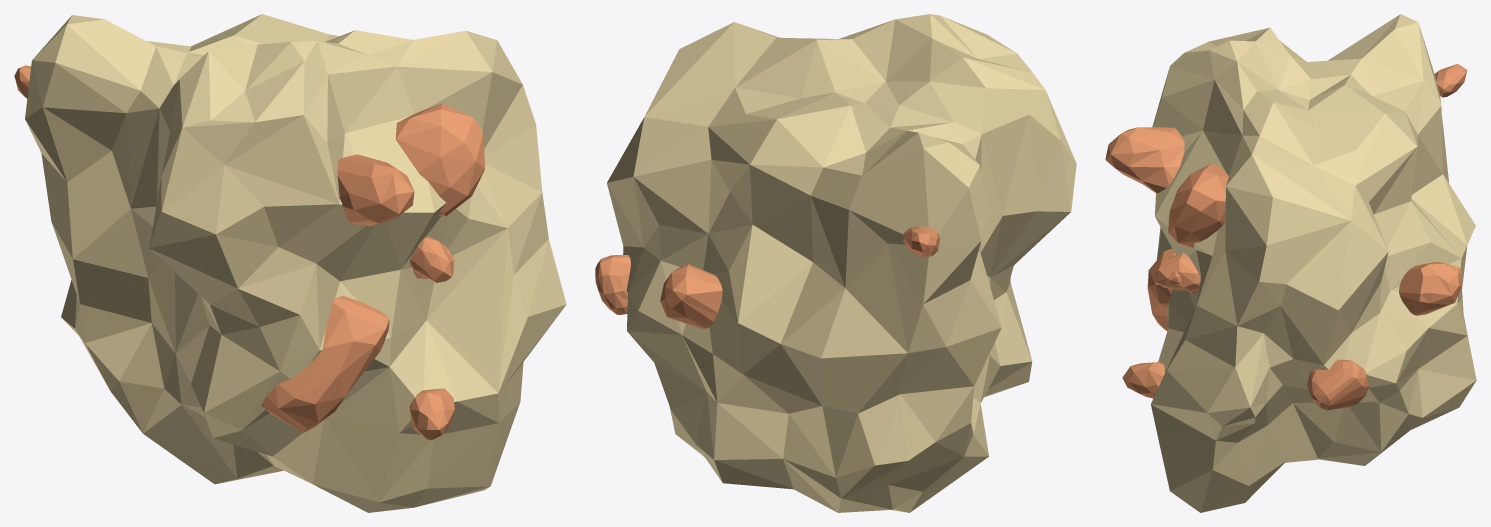
The model's file is StoneOre (40).fbx.
3 renders of one model, left to right at view 1: azimuth 30°, elevation 25°; view 2: azimuth 150°, elevation 25°; view 3: azimuth 270°, elevation 25°, orthographic. The views are drawn at different scales.
Visible parts, largest first — view 1: Asteroid327; view 2: Asteroid327; view 3: Asteroid327.
Boxes of the visible parts, x1,y1,x2,y2 form: Asteroid327: (14, 14, 566, 512); Asteroid327: (595, 14, 1076, 512); Asteroid327: (1105, 14, 1476, 512).
Bounding box in the file's own units: 303 × 321 × 266.
